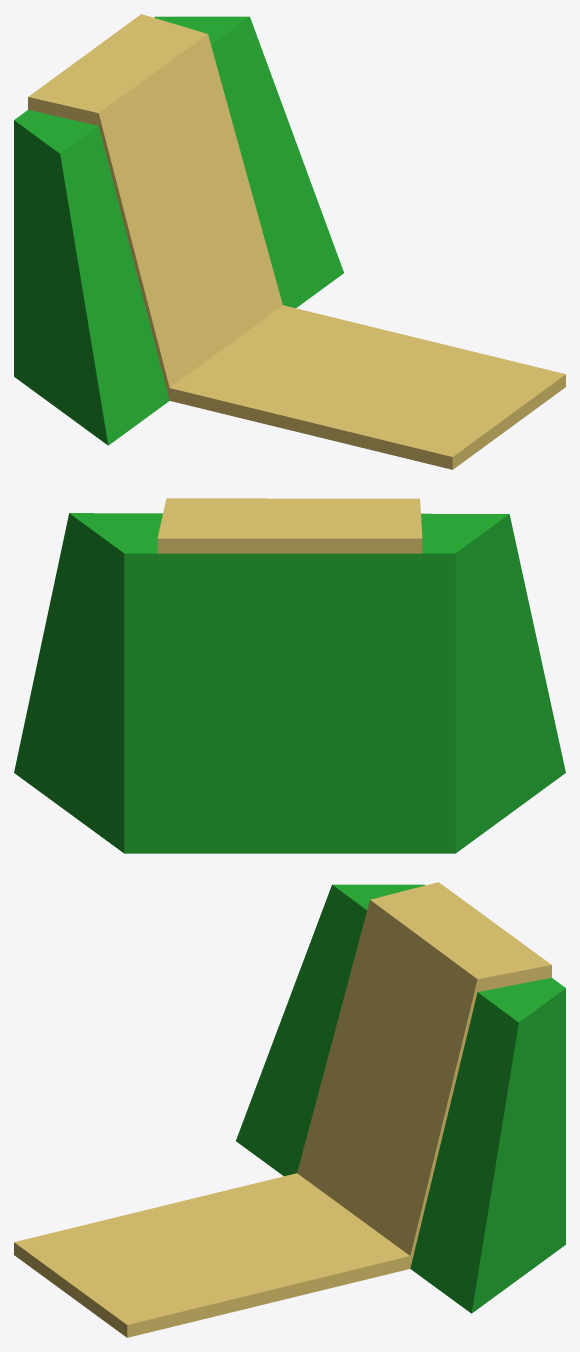
Rendered from cliff-small-stairs_corner.glb.
3 views of the same model, one above another, from view 1: azimuth 30°, elevation 25°; view 2: azimuth 150°, elevation 25°; view 3: azimuth 270°, elevation 25° (orthographic). The views are drawn at different scales.
Visible parts, largest first — view 1: cliff-small-stairs_corner; view 2: cliff-small-stairs_corner; view 3: cliff-small-stairs_corner.
Boxes of the visible parts, <box> form: cliff-small-stairs_corner: <box>14,14,565,469</box>; cliff-small-stairs_corner: <box>14,498,565,853</box>; cliff-small-stairs_corner: <box>14,882,565,1337</box>.
Bounding box in the file's own units: 0.8227 × 0.525 × 0.975.
